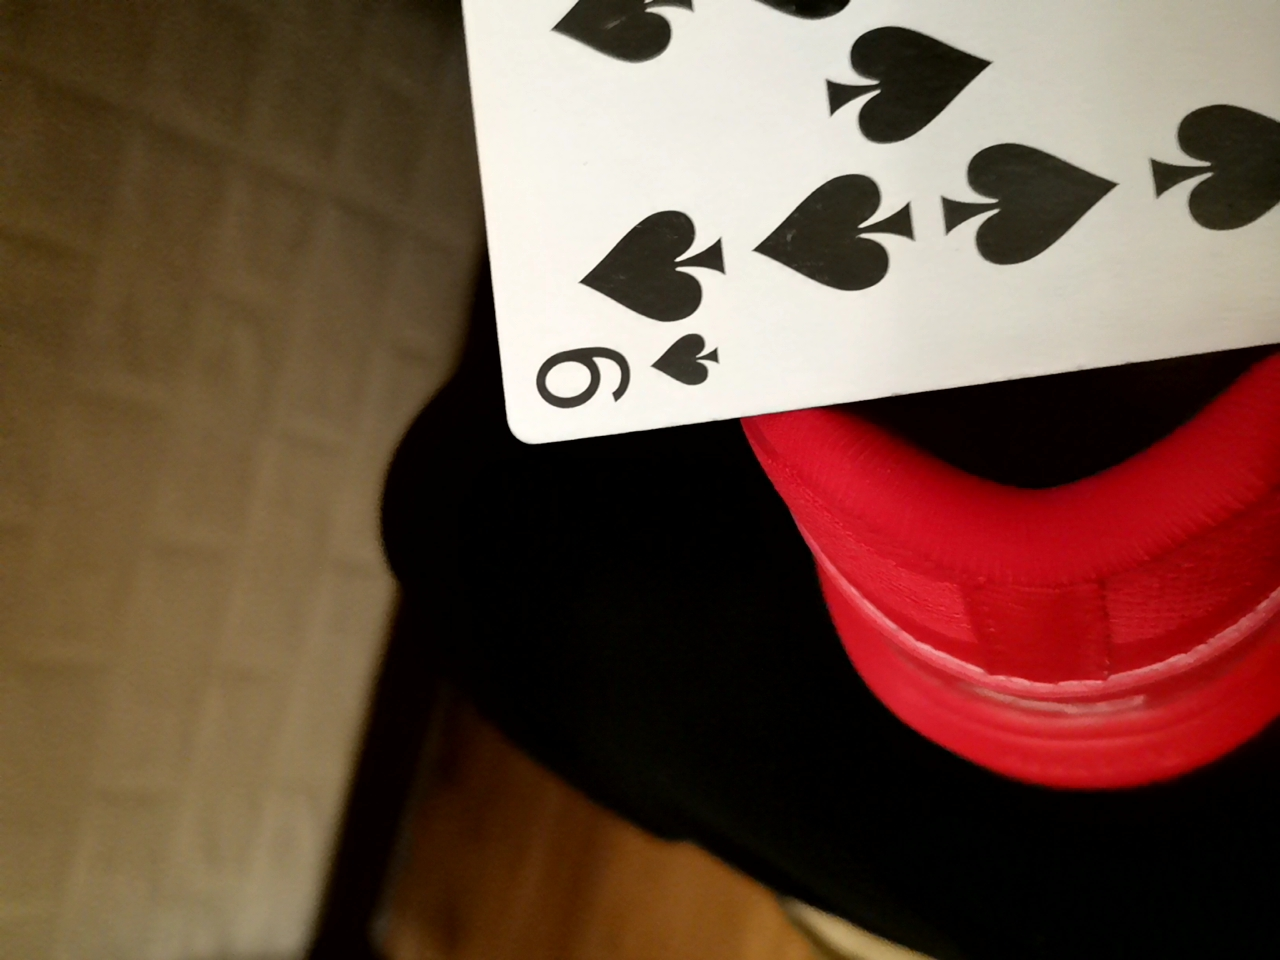ht 9: (436, 7, 1271, 469)
